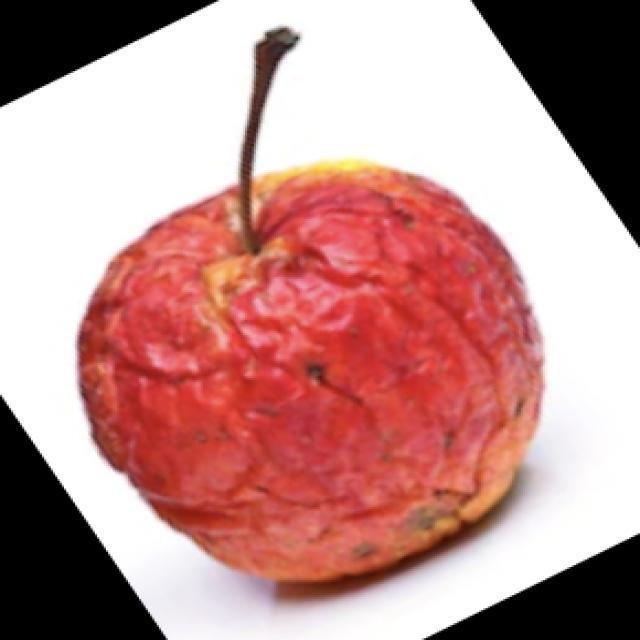Rotten: (69, 150, 544, 588)
